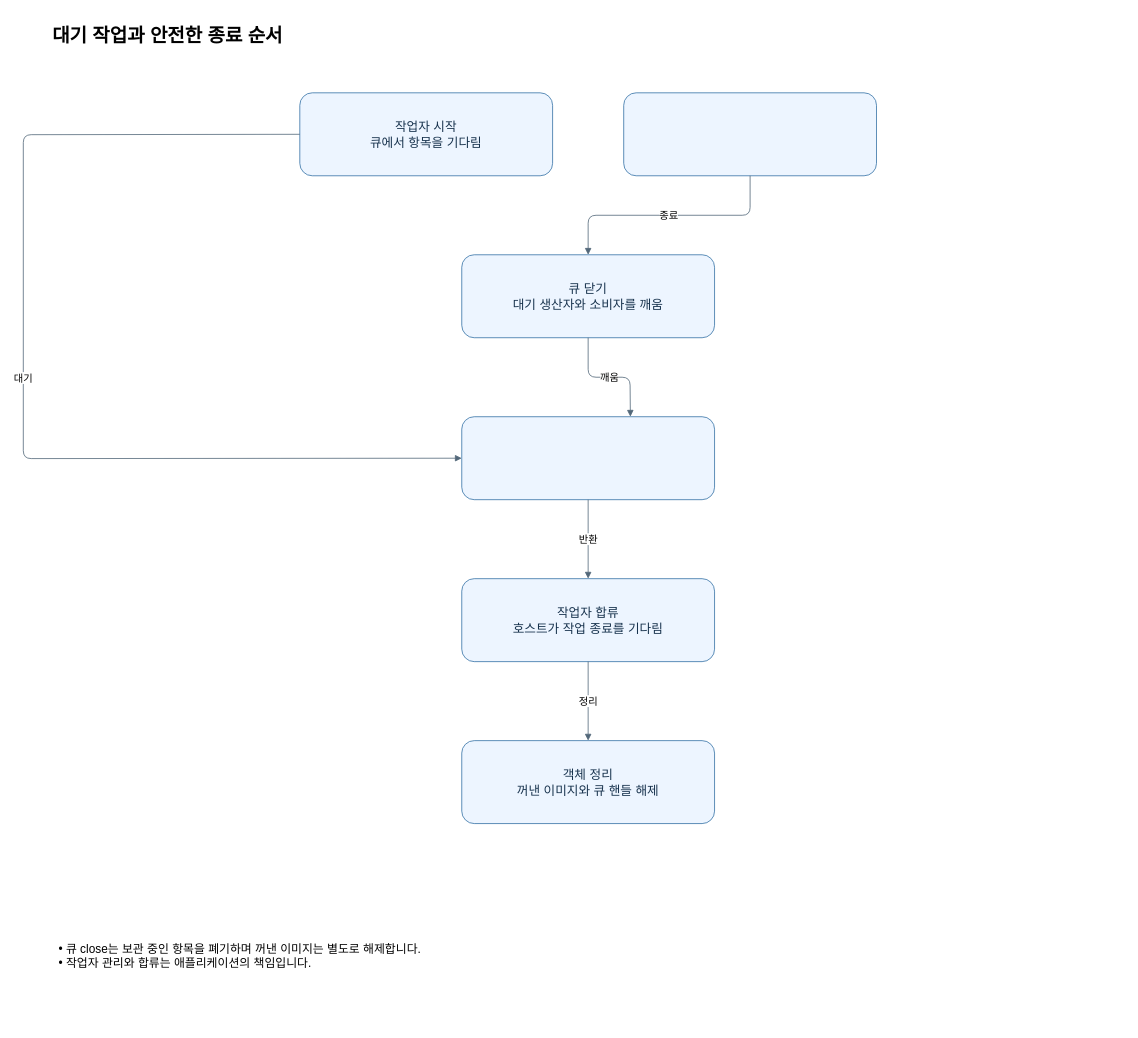
Image size: 1138x1038. Some labels were removed from this diagram. Here are the shapes that lost their labels. From the top down, the centre of each, then its label:
point 750,134: 종료 요청 호스트가 종료를 결정
point 588,458: 대기 호출 반환 닫힘 상태를 확인
